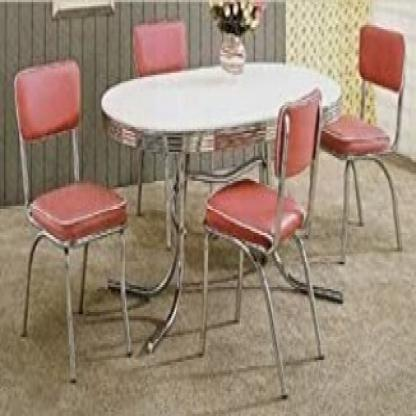chair: (5, 54, 134, 378), (195, 88, 325, 400), (324, 19, 408, 265), (130, 15, 219, 204)
table: (111, 62, 337, 340)
